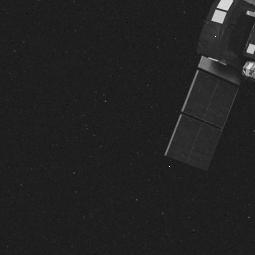soho: (161, 0, 255, 164)
